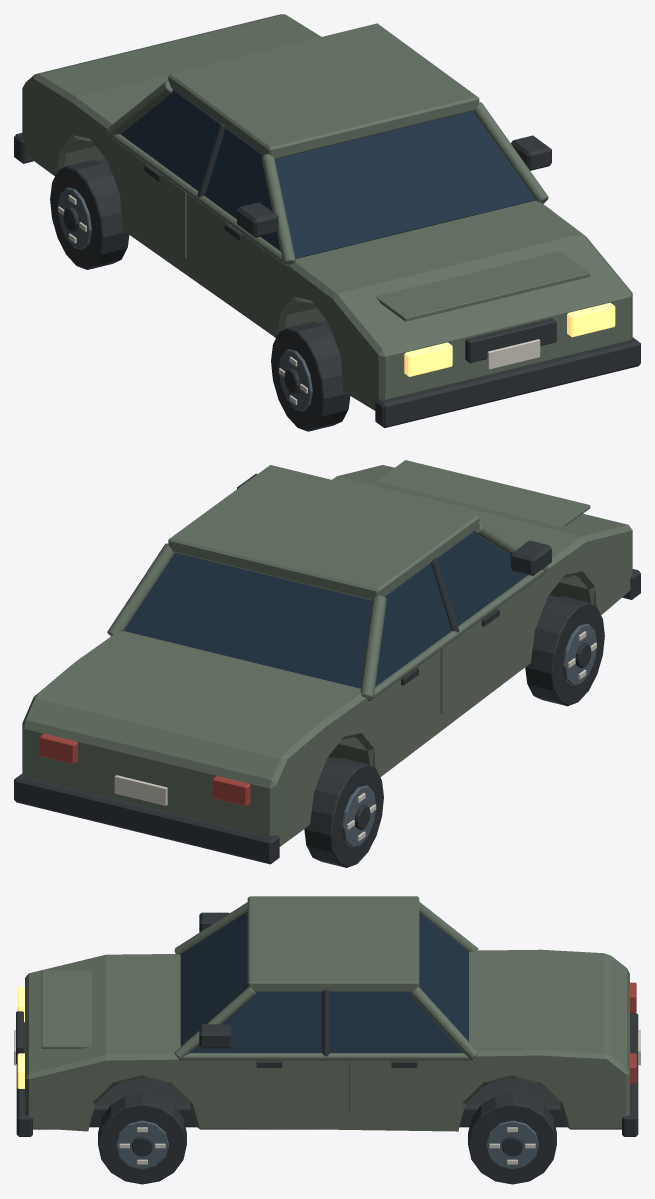
Rendered from BH_Car_Sedan_01.glb.
3 views of the same model, one above another, from view 1: azimuth 30°, elevation 25°; view 2: azimuth 150°, elevation 25°; view 3: azimuth 270°, elevation 25° (orthographic). The views are drawn at different scales.
Visible parts, largest first — view 1: BH_Car_Sedan_01_RenderMesh, BH_Car_Sedan_01_LightMesh; view 2: BH_Car_Sedan_01_RenderMesh; view 3: BH_Car_Sedan_01_RenderMesh, BH_Car_Sedan_01_LightMesh.
Boxes of the visible parts, x1,y1,x2,y2 form: BH_Car_Sedan_01_RenderMesh: [14, 14, 640, 431]; BH_Car_Sedan_01_LightMesh: [404, 302, 615, 376]; BH_Car_Sedan_01_RenderMesh: [14, 460, 640, 867]; BH_Car_Sedan_01_RenderMesh: [14, 896, 640, 1184]; BH_Car_Sedan_01_LightMesh: [17, 987, 24, 1088].
Size of what is drawn, in the model's own units: 2.14 by 1.54 by 4.64.
